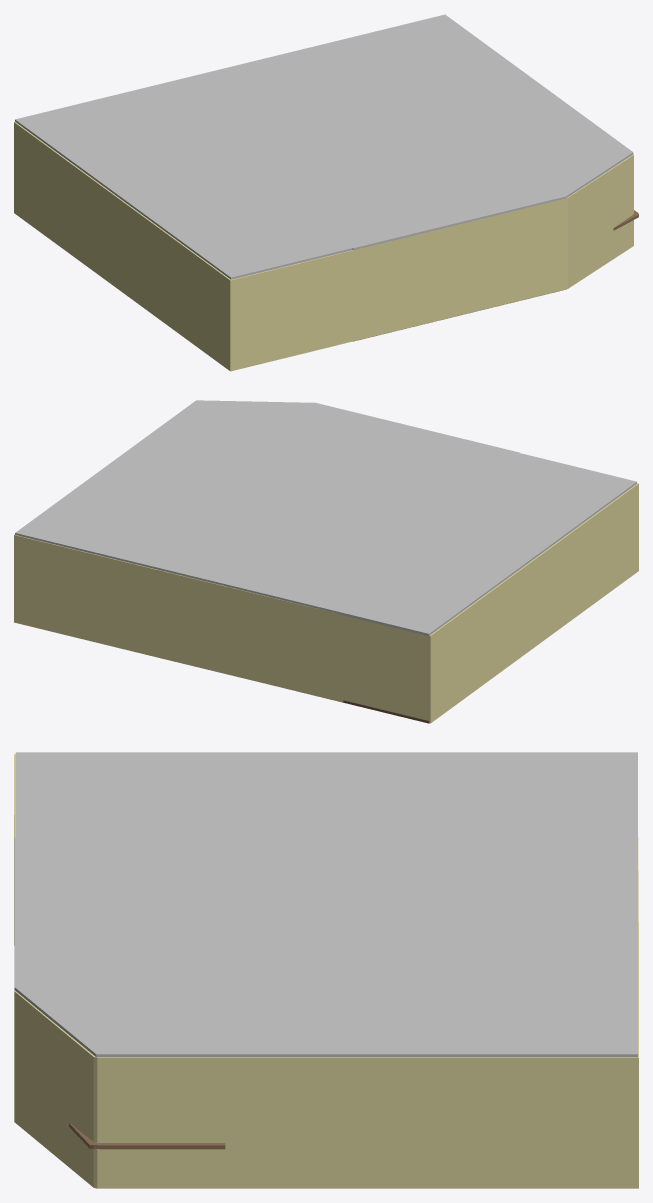
The model's file is BUILDING.fbx.
3 renders of one model, top to bottom at view 1: azimuth 30°, elevation 25°; view 2: azimuth 150°, elevation 25°; view 3: azimuth 270°, elevation 25°, orthographic. The views are drawn at different scales.
Parts seen in each view (by area): view 1: FLOOR, WALLS; view 2: FLOOR, WALLS; view 3: FLOOR, WALLS, Fancy desk.
Boxes of the visible parts, left/top/right/bottom form: FLOOR: left=15, top=14, right=633, bottom=341; WALLS: left=14, top=122, right=633, bottom=371; FLOOR: left=15, top=400, right=636, bottom=723; WALLS: left=14, top=483, right=638, bottom=723; FLOOR: left=14, top=752, right=637, bottom=1057; WALLS: left=14, top=754, right=638, bottom=1188; Fancy desk: left=69, top=1123, right=225, bottom=1149.
Bounding box in the file's own units: 1423 × 291 × 1229.
